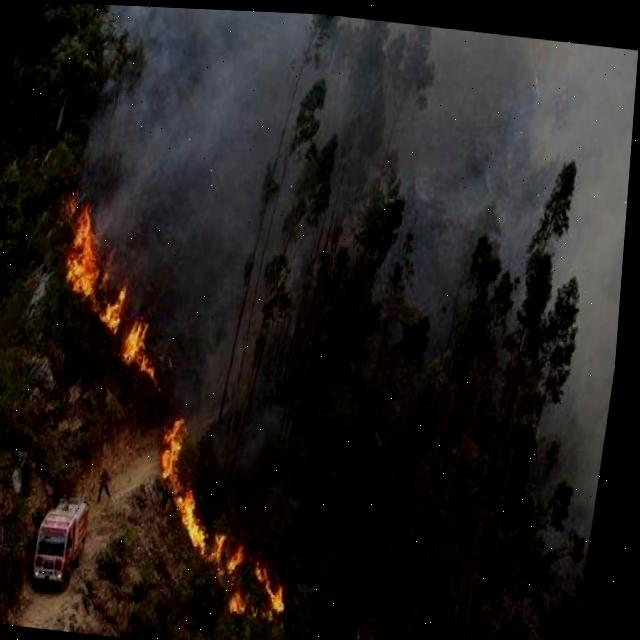fire: (166, 422, 299, 621), (63, 192, 161, 396)
smoke: (91, 4, 320, 251), (144, 234, 256, 404)
